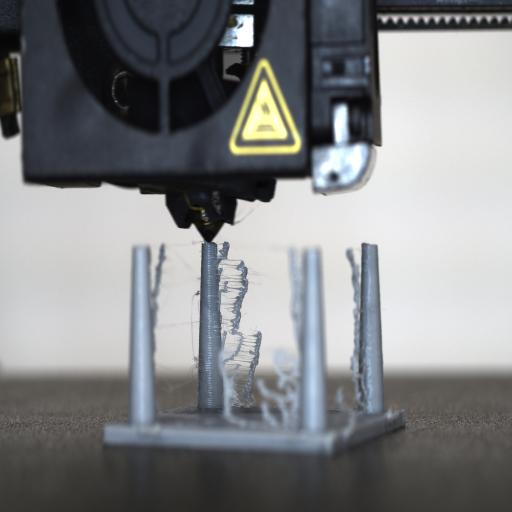stringing: (136, 240, 360, 429)
